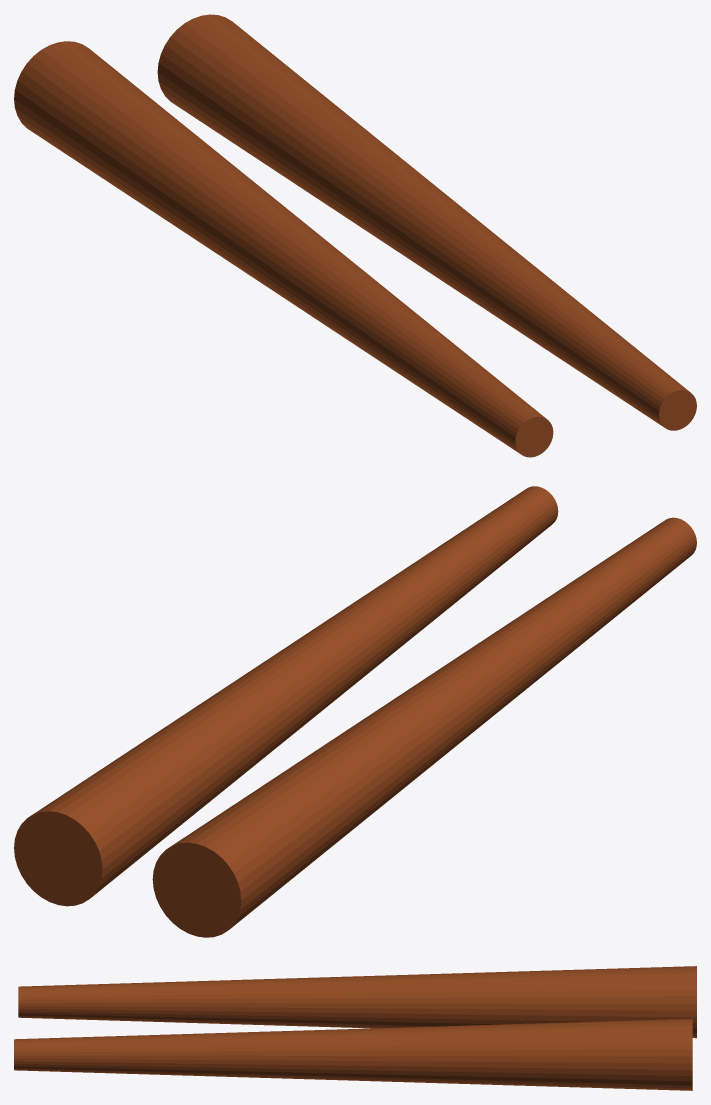
The model's file is Sticks.obj.
3 views of the same model, one above another, from view 1: azimuth 30°, elevation 25°; view 2: azimuth 150°, elevation 25°; view 3: azimuth 270°, elevation 25° (orthographic). The views are drawn at different scales.
Parts seen in each view (by area): view 1: PlaceMat.002; view 2: PlaceMat.002; view 3: PlaceMat.002.
Boxes of the visible parts, x1,y1,x2,y2 form: PlaceMat.002: [14, 14, 696, 457]; PlaceMat.002: [14, 486, 696, 937]; PlaceMat.002: [14, 966, 696, 1090].
Bounding box in the file's own units: 0.098 × 0.0399 × 0.3566.
